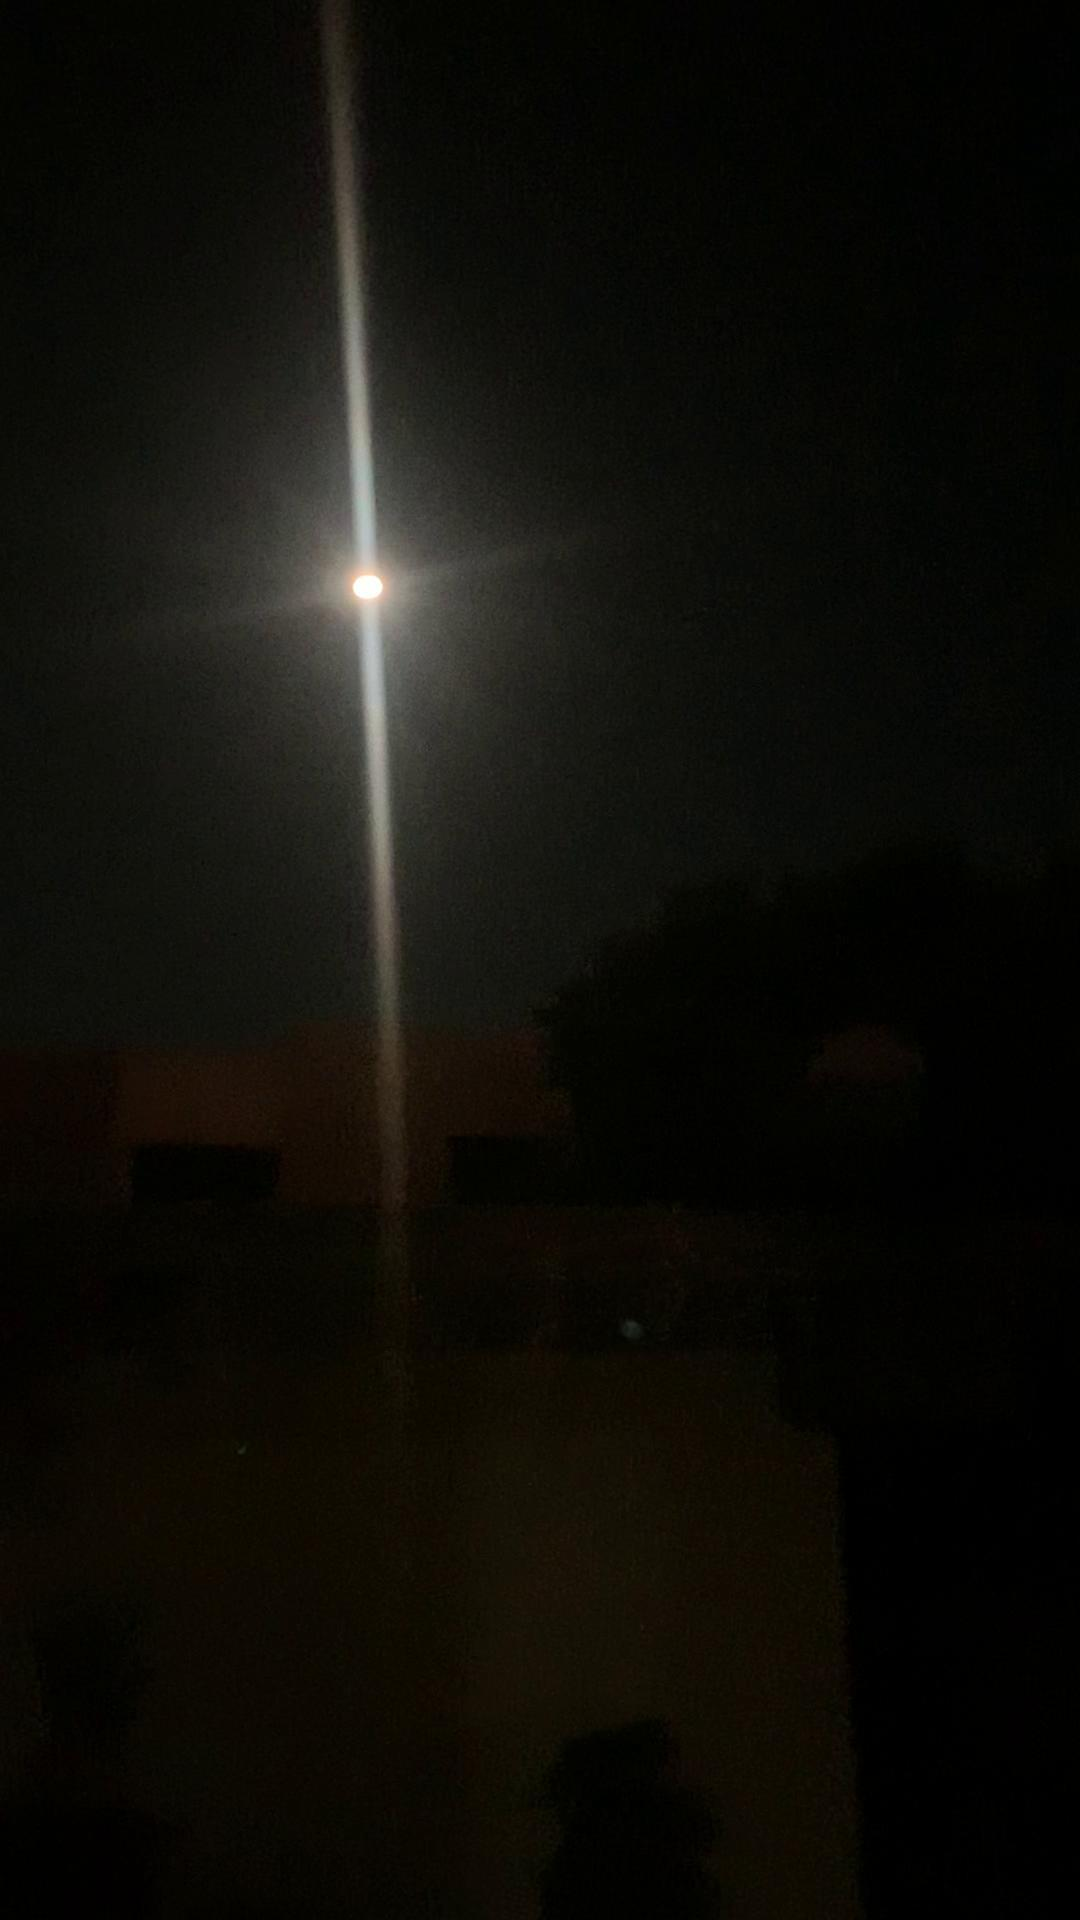moon: (352, 545, 427, 624)
